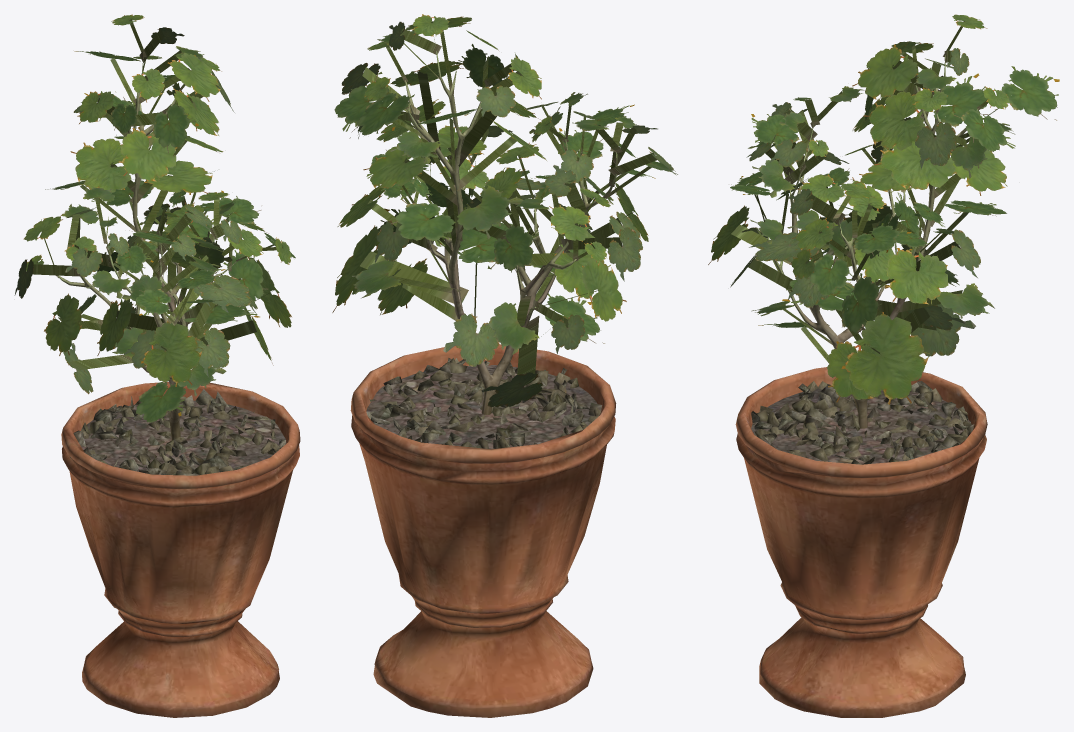
File: potted_plant_01.glb
3 renders of one model, left to right at view 1: azimuth 30°, elevation 25°; view 2: azimuth 150°, elevation 25°; view 3: azimuth 270°, elevation 25°, orthographic. The views are drawn at different scales.
Visible parts, largest first — view 1: potted_plant_01_stem, potted_plant_01_leaves; view 2: potted_plant_01_stem, potted_plant_01_leaves; view 3: potted_plant_01_stem, potted_plant_01_leaves.
Part boxes in pixels (box(x1,y1,x2,y2)): potted_plant_01_stem: box(56, 58, 300, 717); potted_plant_01_leaves: box(14, 14, 295, 426); potted_plant_01_stem: box(350, 51, 617, 717); potted_plant_01_leaves: box(332, 14, 677, 407); potted_plant_01_stem: box(735, 55, 987, 717); potted_plant_01_leaves: box(708, 14, 1059, 404).
Size of the model in its own units: 0.5956 by 1.33 by 0.6505.
2 materials, 2 textured.
